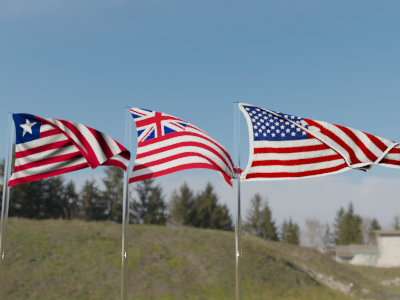America flag: (241, 104, 400, 181)
Liberia flag: (10, 109, 131, 177)
Malaysia flag: (133, 108, 239, 186)
